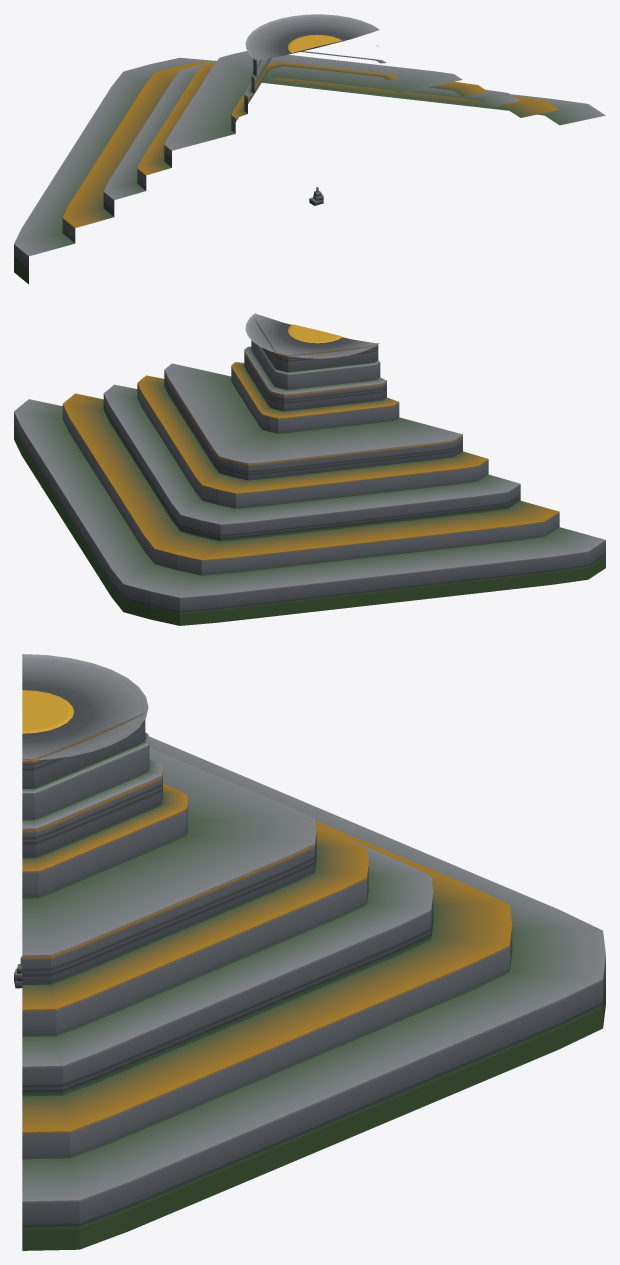
File: temple-s1-mkGmz_2p.glb
The picture shows the model from 3 angles, top to bottom: view 1: azimuth 30°, elevation 25°; view 2: azimuth 150°, elevation 25°; view 3: azimuth 270°, elevation 25°; orthographic projection. The views are drawn at different scales.
Parts seen in each view (by area): view 1: sc_landmark_0; view 2: sc_landmark_0; view 3: sc_landmark_0.
Boxes of the visible parts, box(x1,y1,x2,y2) form: sc_landmark_0: box(14, 14, 605, 284); sc_landmark_0: box(14, 313, 605, 625); sc_landmark_0: box(22, 654, 605, 1250).
Size of the model in its own units: 758 by 213 by 385.
